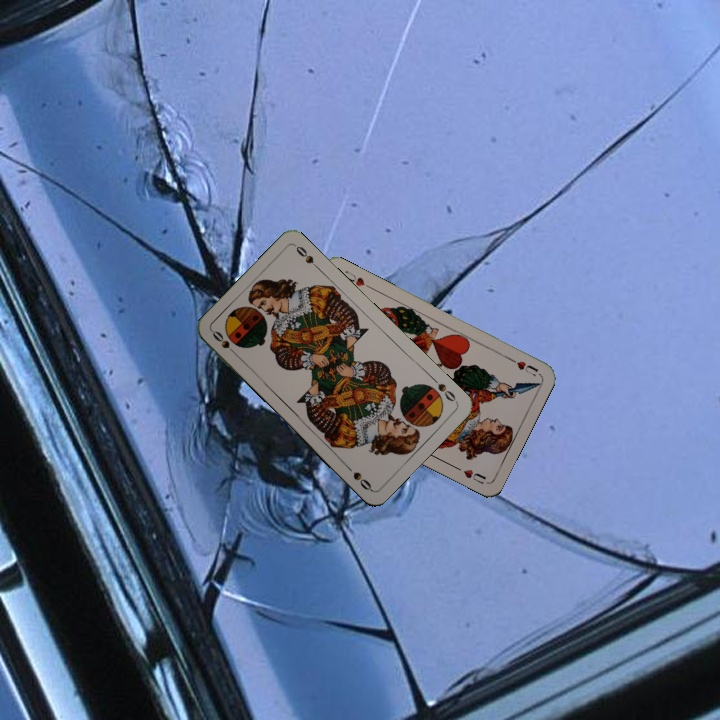HU: (504, 354, 541, 379)
SO: (208, 327, 241, 359), (427, 373, 460, 405)
